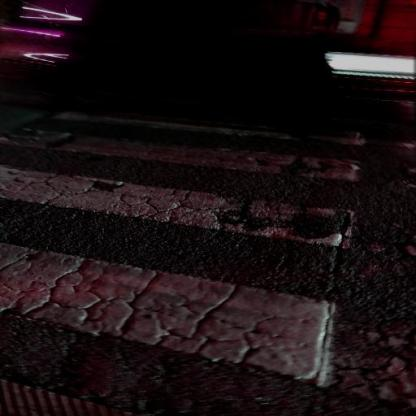crosswalk: (1, 122, 364, 254)
